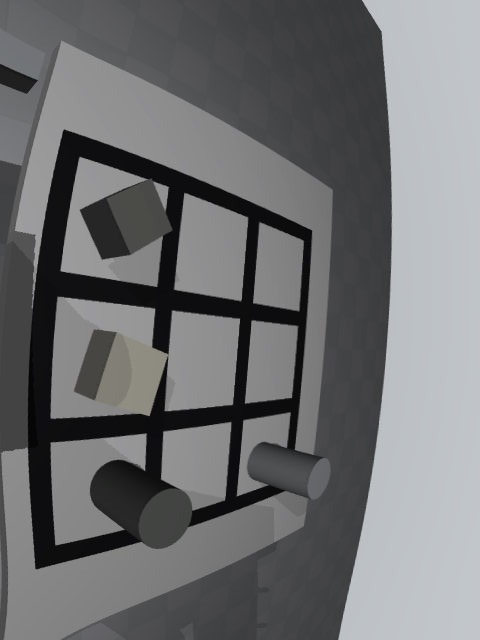can: (248, 442, 331, 500)
cube: (79, 178, 173, 259)
cylinder: (90, 460, 192, 549)
foam: (74, 329, 168, 416)
